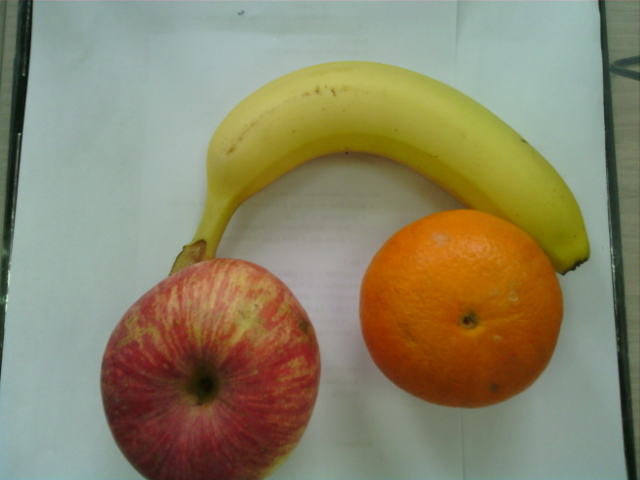normal_apple: (100, 260, 323, 480)
normal_banana: (205, 63, 589, 272)
normal_orange: (358, 211, 566, 412)
